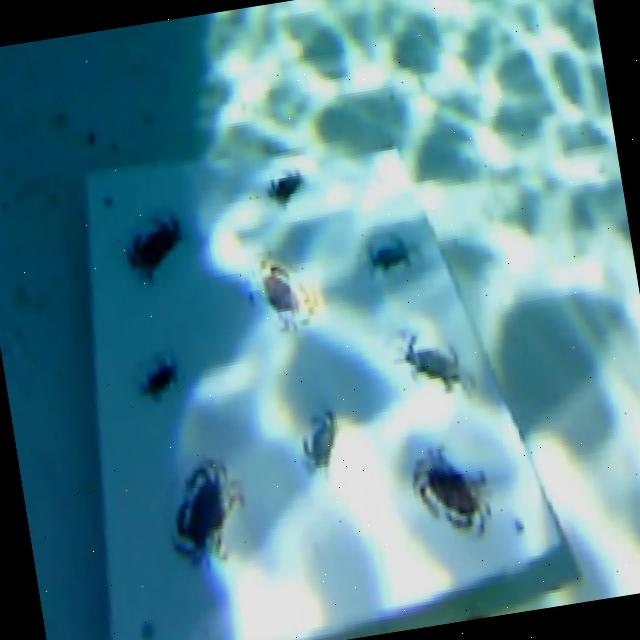green_crab: (403, 336, 460, 388), (366, 232, 412, 272), (142, 360, 176, 397)
jonah_crab: (174, 461, 242, 557), (413, 449, 489, 534), (259, 261, 315, 326)
rock_crab: (126, 213, 181, 278), (302, 414, 335, 470), (267, 170, 303, 204)
